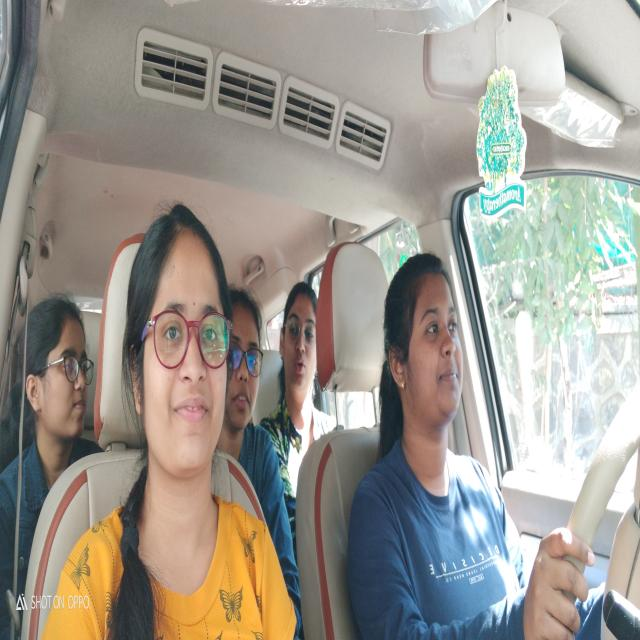person: (130, 202, 234, 483), (379, 248, 475, 454), (27, 286, 97, 452), (224, 260, 264, 448), (275, 278, 322, 426)
